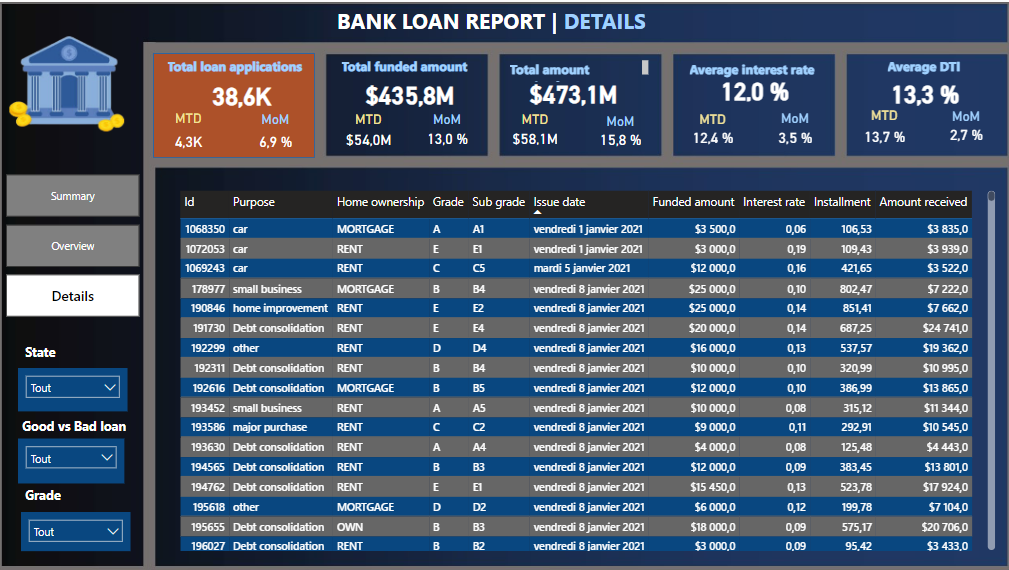

The dashboard page shown, as its layout file describes it:
{"tool":"powerbi","page":{"name":"Details","canvas":[1280,720],"ordinal":2},"visuals":[{"type":"shape","box":[196.5,64.3,204.1,132.2],"z":0,"group":"g5"},{"type":"group","id":"g1","title":"Group 1","box":[429,64.3,185.2,126.6],"z":0},{"type":"group","id":"g2","title":"Group 2","box":[627.4,67.6,206,121.4],"z":1000},{"type":"card","title":"MTD","fields":{"Values":["financial_loan.mtd loan applications"]},"box":[196.5,136.4,88.8,62.1],"z":1000,"group":"g5"},{"type":"group","id":"g3","title":"Group 3","box":[858,67.6,194.6,119.3],"z":2000},{"type":"card","title":"Total loan applications","fields":{"Values":["financial_loan.total loan applications"]},"box":[224.8,80.3,166.3,74.1],"z":2000,"group":"g5"},{"type":"group","id":"g4","title":"Group 4","box":[1065.8,64.3,213.5,124.7],"z":3000},{"type":"card","fields":{"Values":["financial_loan.Total funded amount"]},"box":[449.8,88.9,139.8,52.9],"z":3000,"group":"g1"},{"type":"card","title":"MoM","fields":{"Values":["financial_loan.MoM loan applications"]},"box":[302.3,138.4,96.4,58.1],"z":3000,"group":"g5"},{"type":"group","id":"g5","title":"Group 5","box":[196.5,64.3,204.1,134.2],"z":4000},{"type":"textbox","box":[209.7,64.3,189,44.1],"z":4000,"group":"g5"},{"type":"card","title":"MTD","fields":{"Values":["financial_loan.MTD funded amounts"]},"box":[429,138,77.5,52.9],"z":4000,"group":"g1"},{"type":"textbox","box":[423.3,0,510.2,49.1],"z":5000},{"type":"card","title":"MoM","fields":{"Values":["financial_loan.MoM funded applications"]},"box":[519.7,138,94.5,49.1],"z":5000,"group":"g1"},{"type":"card","title":"MTD","fields":{"Values":["financial_loan.MTD amount received"]},"box":[627.4,138,100.2,43.5],"z":6000,"group":"g2"},{"type":"slicer","fields":{"Values":["financial_loan.address_state"]},"box":[26.5,461.1,138,54.8],"z":6000},{"type":"card","fields":{"Values":["financial_loan.total amount received"]},"box":[650.1,85.1,151.2,58.6],"z":7000,"group":"g2"},{"type":"slicer","fields":{"Values":["financial_loan.grade"]},"box":[30.2,642.2,138,49.1],"z":7000},{"type":"card","title":"MoM","fields":{"Values":["financial_loan.MoM amount received"]},"box":[737,139.9,96.4,49.1],"z":8000,"group":"g2"},{"type":"slicer","fields":{"Values":["financial_loan.Good vs Bad loans"]},"box":[26.5,549.9,134.2,56.7],"z":8000},{"type":"card","fields":{"Values":["financial_loan.average int_rate"]},"box":[878.8,90.8,151.2,39.7],"z":9000,"group":"g3"},{"type":"textbox","box":[30.2,425.2,73.7,35.9],"z":9000},{"type":"card","title":"MTD","fields":{"Values":["financial_loan.MTD average rate"]},"box":[858,138,86.9,47.2],"z":10000,"group":"g3"},{"type":"textbox","box":[26.5,517.8,170.1,32.1],"z":10000},{"type":"card","title":"MoM","fields":{"Values":["financial_loan.MoM average rate"]},"box":[958.2,135.9,94.5,51],"z":11000,"group":"g3"},{"type":"textbox","box":[30.2,604.7,73.7,37.8],"z":11000},{"type":"card","fields":{"Values":["financial_loan.average dti"]},"box":[1094.1,90.8,149.3,47.2],"z":12000,"group":"g4"},{"type":"tableEx","fields":{"Values":["financial_loan.id","financial_loan.purpose","financial_loan.home_ownership","financial_loan.grade","financial_loan.sub_grade","financial_loan.issue_date","financial_loan.Total funded amount","Sum(financial_loan.int_rate*)","Sum(financial_loan.installment*)","financial_loan.total amount received"]},"box":[224.9,232.4,1037.5,463],"z":12000},{"type":"card","title":"MTD","fields":{"Values":["financial_loan.MTD dti"]},"box":[1065.8,132.3,103.9,56.7],"z":13000,"group":"g4"},{"type":"pageNavigator","box":[11.3,217.3,168.2,181.4],"z":13000},{"type":"image","box":[7.6,37.8,160.6,130.4],"z":13001},{"type":"card","title":"MoM","fields":{"Values":["financial_loan.MoM average dti"]},"box":[1162.2,134.2,117.2,47.2],"z":14000,"group":"g4"},{"type":"textbox","box":[429,64.3,185.2,41.6],"z":14002,"group":"g1"},{"type":"textbox","box":[639.9,67.6,185.2,37.8],"z":14003,"group":"g2"},{"type":"textbox","box":[867.5,67.6,181.4,37.8],"z":14004,"group":"g3"},{"type":"textbox","box":[1116.8,64.3,126.6,41.6],"z":14005,"group":"g4"}]}

Visuals, with their boxes in screenshot pixels (x1, y1, x2, y2), scaled from the page's 1280x720 canvas onto the 1009x570 screenshot:
shape: [155,51,316,156]
"Group 1" group: [338,51,484,151]
"Group 2" group: [495,54,657,150]
"MTD" card: [155,108,225,157]
"Group 3" group: [676,54,830,148]
"Total loan applications" card: [177,64,308,122]
"Group 4" group: [840,51,1008,150]
card - financial_loan.Total funded amount: [355,70,465,112]
"MoM" card: [238,110,314,156]
"Group 5" group: [155,51,316,157]
textbox: [165,51,314,86]
"MTD" card: [338,109,399,151]
textbox: [334,0,736,39]
"MoM" card: [410,109,484,148]
"MTD" card: [495,109,574,144]
slicer - financial_loan.address_state: [21,365,130,408]
card - financial_loan.total amount received: [512,67,632,114]
slicer - financial_loan.grade: [24,508,133,547]
"MoM" card: [581,111,657,150]
slicer - financial_loan.Good vs Bad loans: [21,435,127,480]
card - financial_loan.average int_rate: [693,72,812,103]
textbox: [24,337,82,365]
"MTD" card: [676,109,745,147]
textbox: [21,410,155,435]
"MoM" card: [755,108,830,148]
textbox: [24,479,82,509]
card - financial_loan.average dti: [862,72,980,109]
tableEx - financial_loan.id x financial_loan.purpose: [177,184,995,551]
"MTD" card: [840,105,922,150]
pageNavigator: [9,172,141,316]
image: [6,30,133,133]
"MoM" card: [916,106,1008,144]
textbox: [338,51,484,84]
textbox: [504,54,650,83]
textbox: [684,54,827,83]
textbox: [880,51,980,84]
